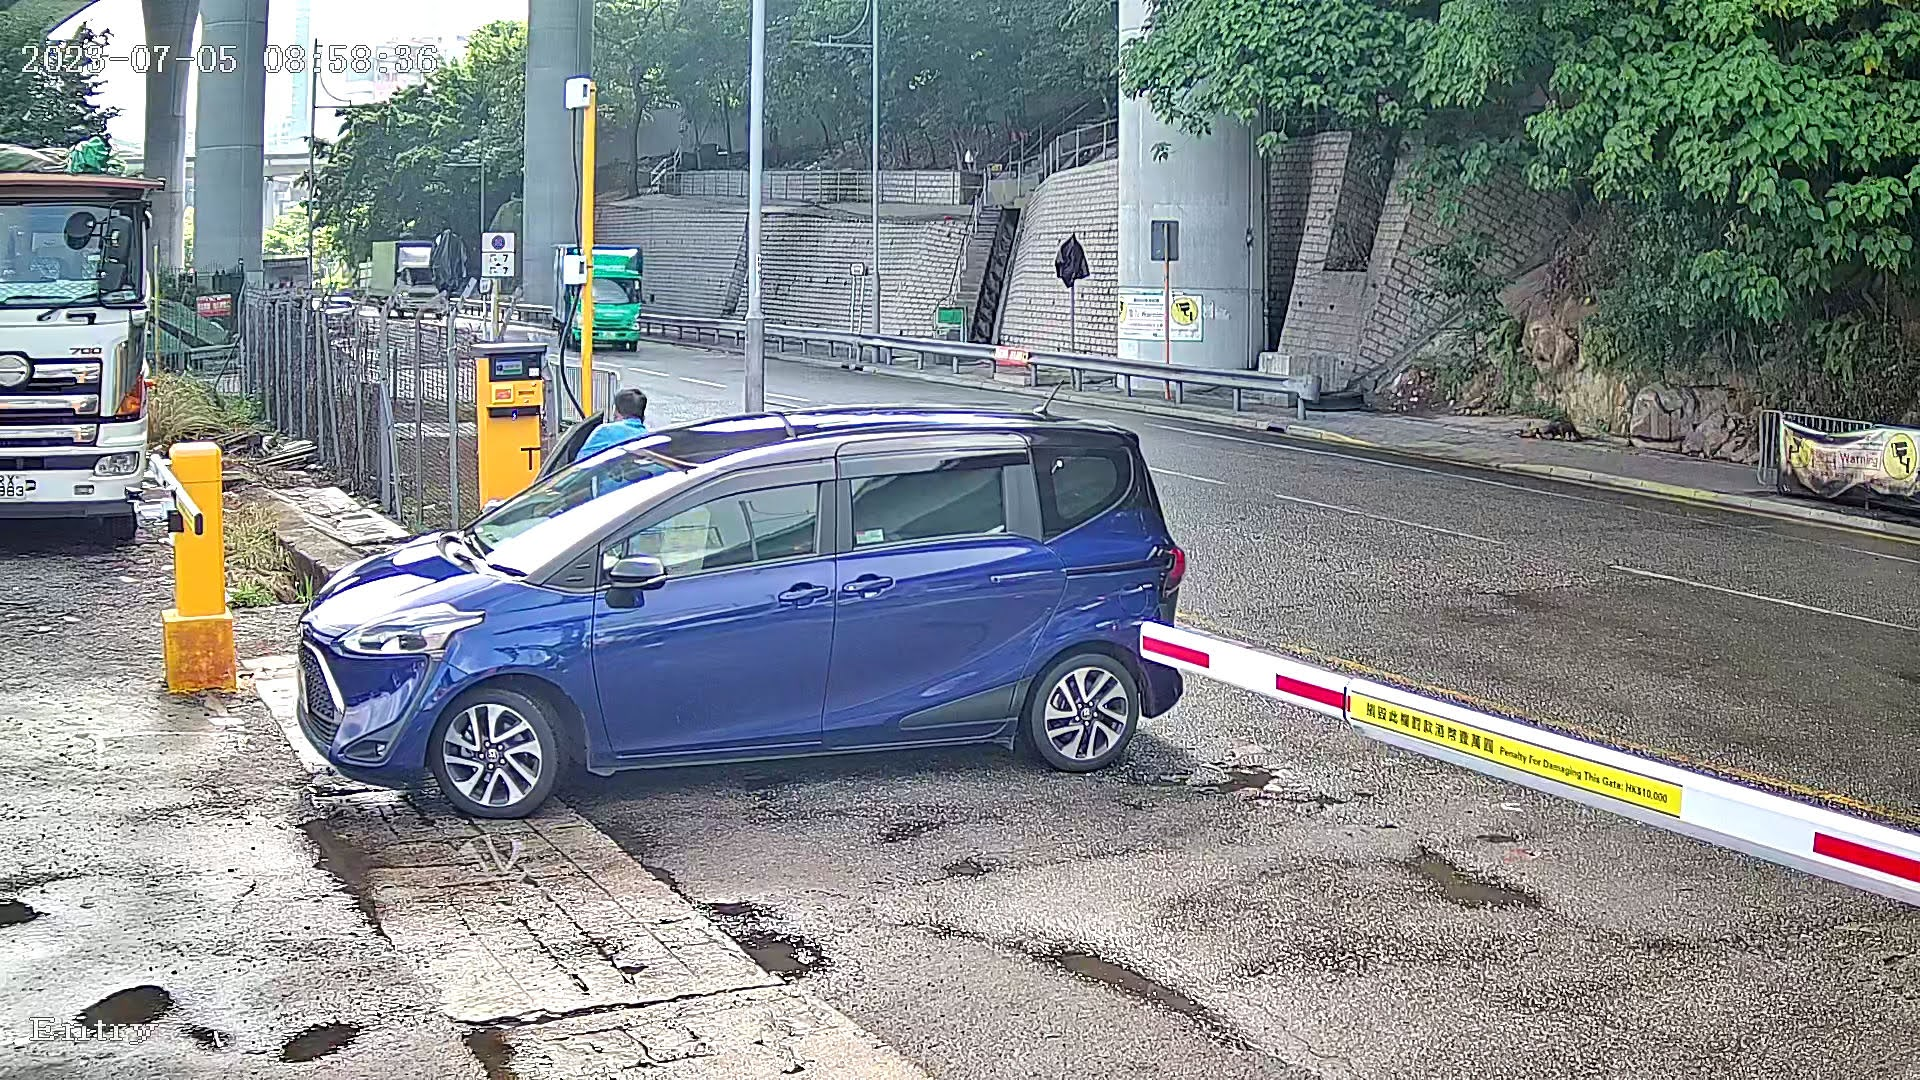privatecar: (266, 385, 1215, 851)
